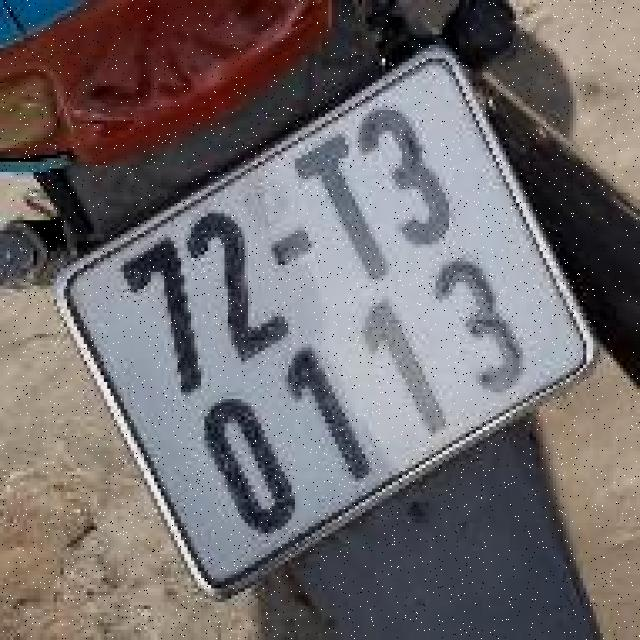0: (204, 397, 295, 542)
1: (360, 280, 448, 460), (290, 325, 370, 504)
2: (189, 182, 283, 382)
3: (429, 247, 529, 433), (363, 83, 448, 258)
7: (102, 223, 210, 410)
T: (296, 119, 384, 311)
